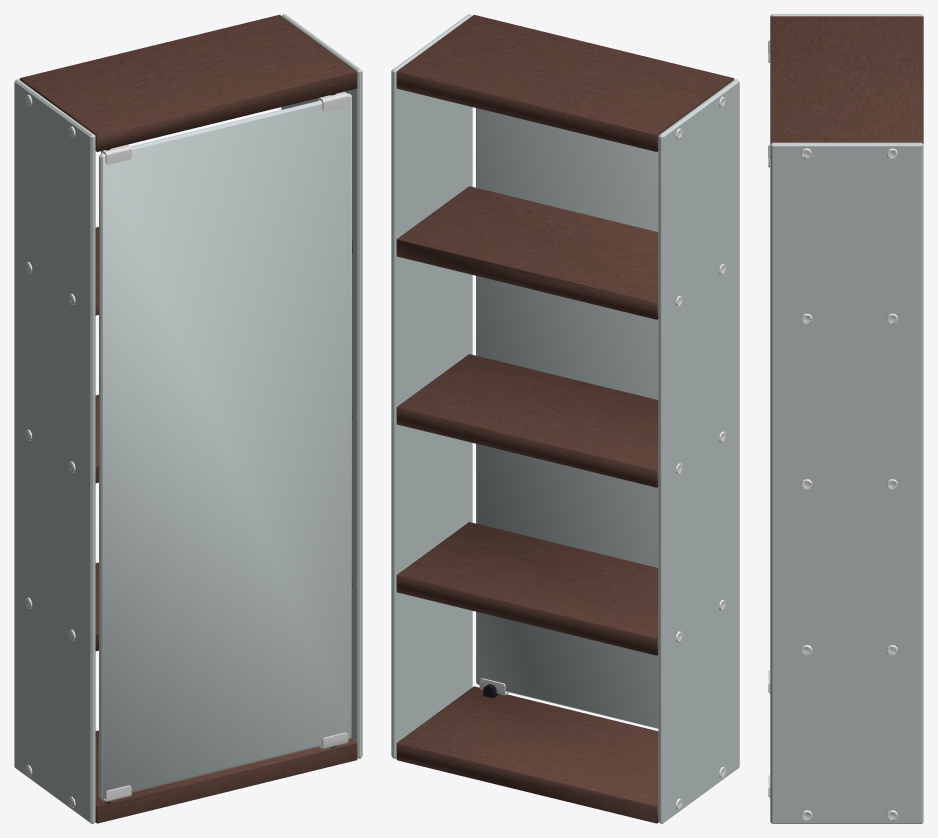
The model's file is display-case.glb.
3 renders of one model, left to right at view 1: azimuth 30°, elevation 25°; view 2: azimuth 150°, elevation 25°; view 3: azimuth 270°, elevation 25°, orthographic.
Parts seen in each view (by area): view 1: Door_0, CabinetBody_1; view 2: CabinetBody_1, Door_0; view 3: CabinetBody_1.
Part boxes in pixels (left/top/right/bottom): Door_0: left=99, top=91, right=351, bottom=802; CabinetBody_1: left=14, top=14, right=362, bottom=823; CabinetBody_1: left=391, top=14, right=739, bottom=823; Door_0: left=476, top=108, right=658, bottom=728; CabinetBody_1: left=770, top=14, right=923, bottom=823.
Bounding box in the file's own units: 0.836 × 2 × 0.414.
6 materials, 1 textured.
